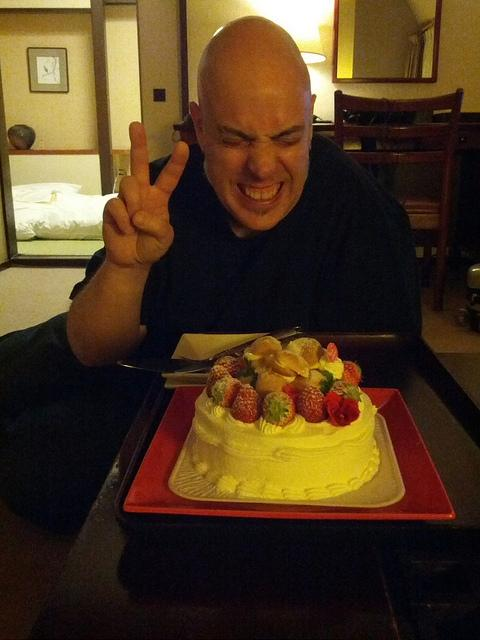strawberry: (322, 391, 360, 427), (296, 386, 330, 424), (232, 384, 264, 424), (262, 391, 296, 426), (210, 378, 243, 408), (206, 364, 233, 398), (330, 380, 362, 404), (212, 356, 244, 378), (341, 361, 362, 386)
